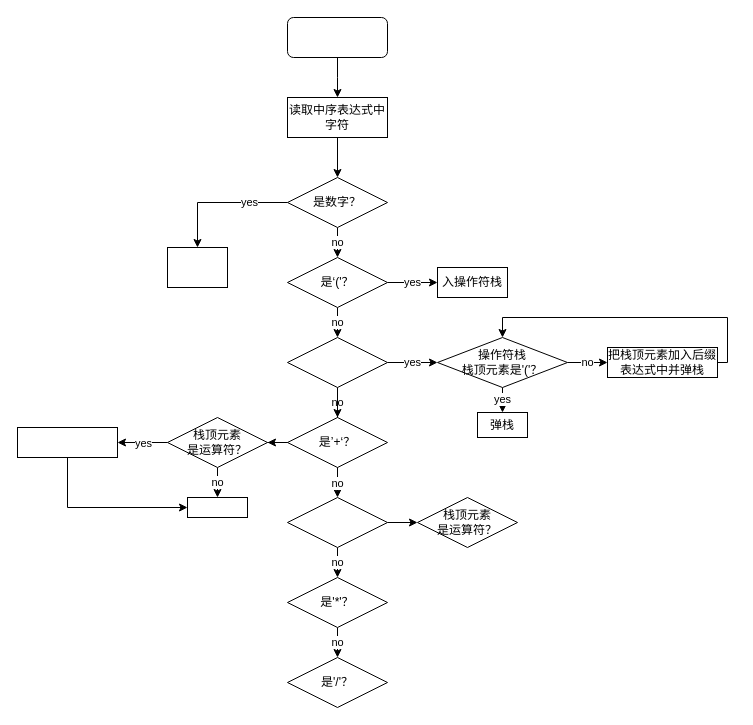
Image size: 753x725. Some labels were removed from this diagram. The shapes that lost their labels are listed below. From the top down, each one's centre as x and y in pixels, then its label:
At (x=337, y=37): "程序开始".
At (x=197, y=267): "加入后缀表达式中".
At (x=337, y=362): "是')'？".
At (x=67, y=442): "将栈顶元素加入后缀表达式中并弹栈".
At (x=217, y=507): "入栈".
At (x=337, y=522): "是'-'？".
